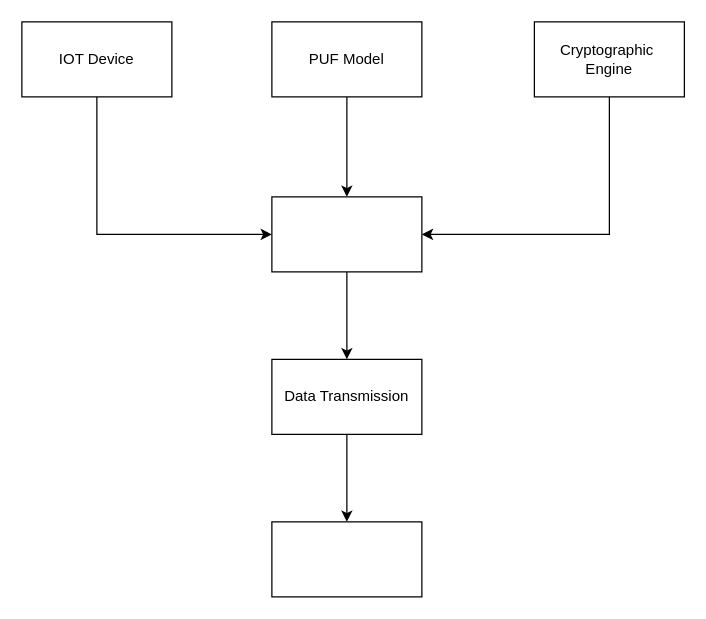
The diagram is 706 pixels wide and 619 high, and some of its shapes have lost their labels. Here are the shapes that lost their labels. From the top down, the centre of each, then its label:
At (x=346, y=234): "Authentication System".
At (x=346, y=559): "User Interface".
